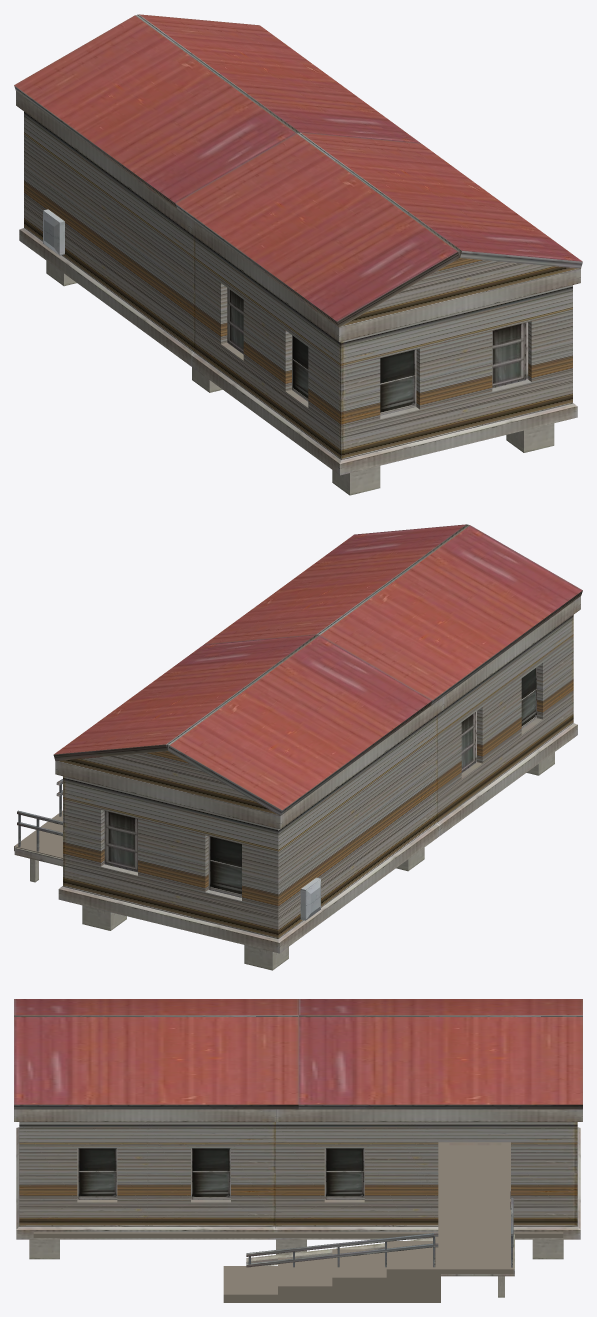
Rendered from rural-mobile-home.access-v2.lod0.glb.
3 renders of one model, top to bottom at view 1: azimuth 30°, elevation 25°; view 2: azimuth 150°, elevation 25°; view 3: azimuth 270°, elevation 25°, orthographic. The views are drawn at different scales.
Parts seen in each view (by area): view 1: Rural_UnmobileHome_1_Rural_Trailer_Stuff_1_0, Rural_UnmobileHome_1_Rural_Facade_FLR_2_0; view 2: Rural_UnmobileHome_1_Rural_Trailer_Stuff_1_0, Rural_UnmobileHome_1_Rural_Facade_FLR_2_0, Walkable floors and stairs; view 3: Rural_UnmobileHome_1_Rural_Trailer_Stuff_1_0, Walkable floors and stairs, Rural_UnmobileHome_1_Rural_Facade_FLR_2_0.
Part boxes in pixels (box(x1,y1,x2,y2)): Rural_UnmobileHome_1_Rural_Trailer_Stuff_1_0: box(14, 14, 582, 459); Rural_UnmobileHome_1_Rural_Facade_FLR_2_0: box(16, 91, 580, 495); Rural_UnmobileHome_1_Rural_Trailer_Stuff_1_0: box(53, 524, 582, 938); Rural_UnmobileHome_1_Rural_Facade_FLR_2_0: box(14, 596, 580, 970); Walkable floors and stairs: box(14, 810, 62, 858); Rural_UnmobileHome_1_Rural_Trailer_Stuff_1_0: box(14, 999, 582, 1226); Walkable floors and stairs: box(33, 1142, 563, 1302); Rural_UnmobileHome_1_Rural_Facade_FLR_2_0: box(14, 1109, 582, 1297).
Bounding box in the file's own units: 6.67 × 4.39 × 11.38.
Materials: 3 (2 with a texture image).
